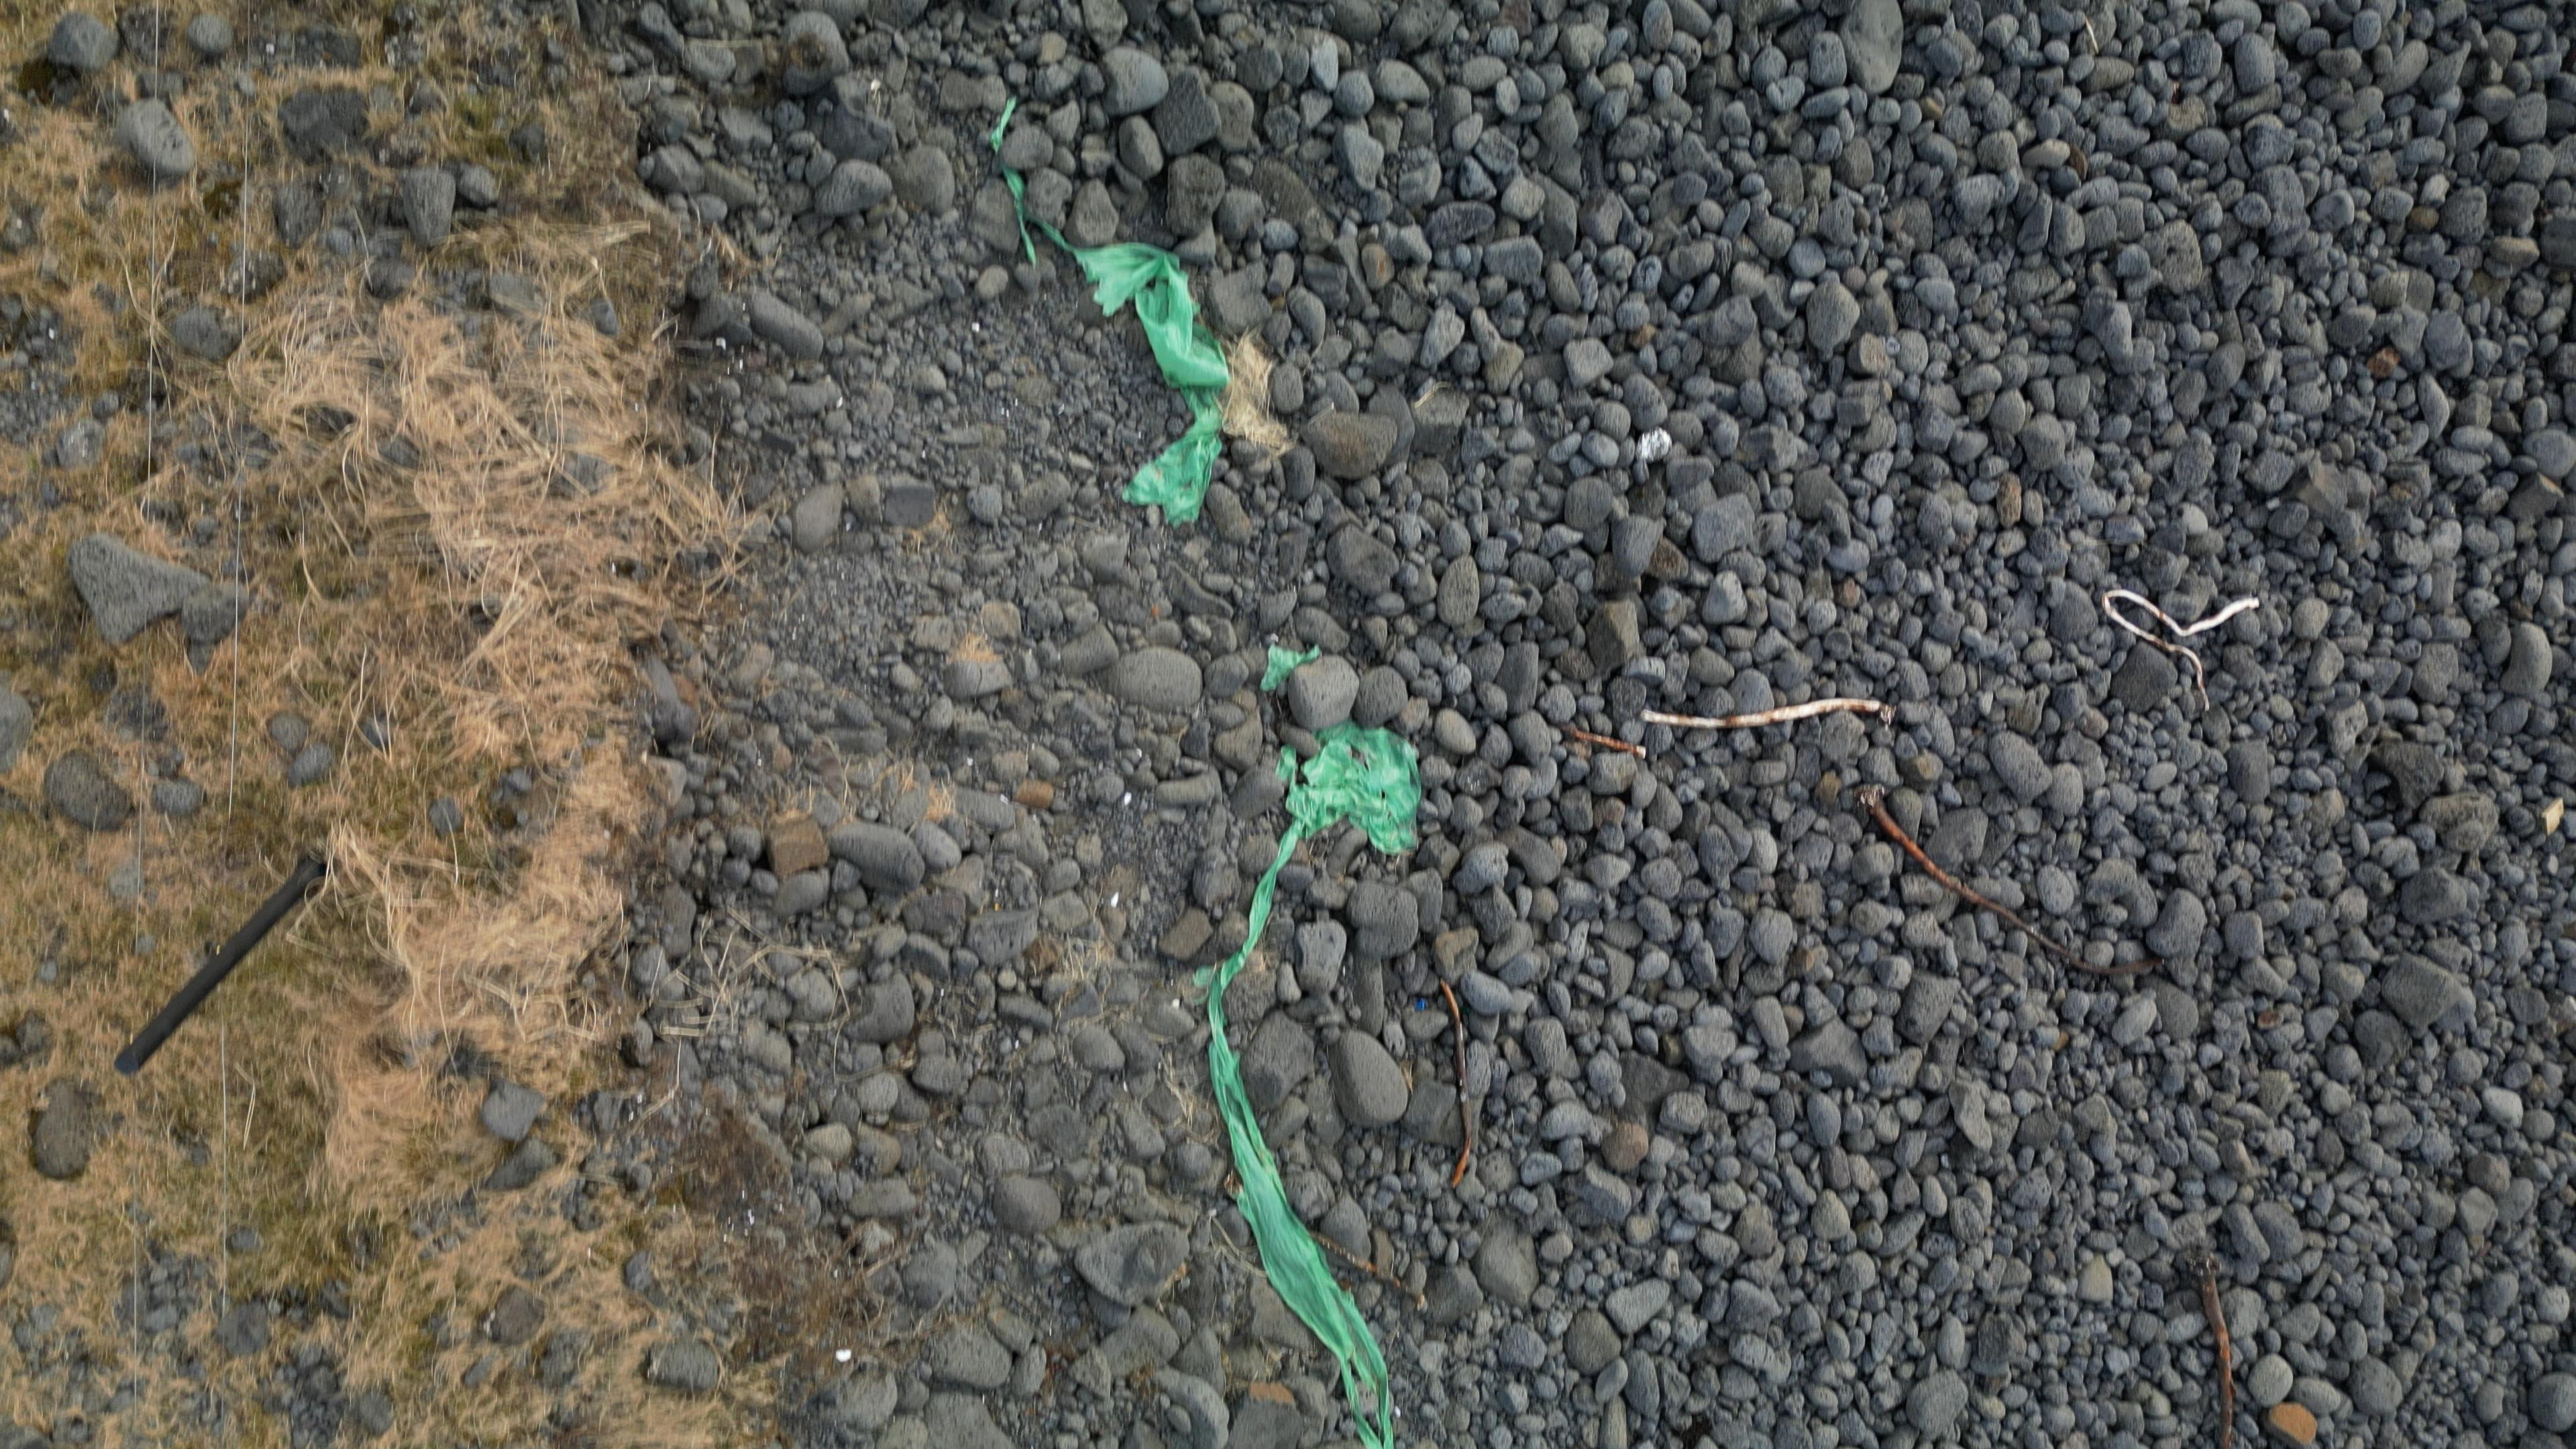trash: (1207, 724, 1419, 1449), (1077, 241, 1228, 523)
